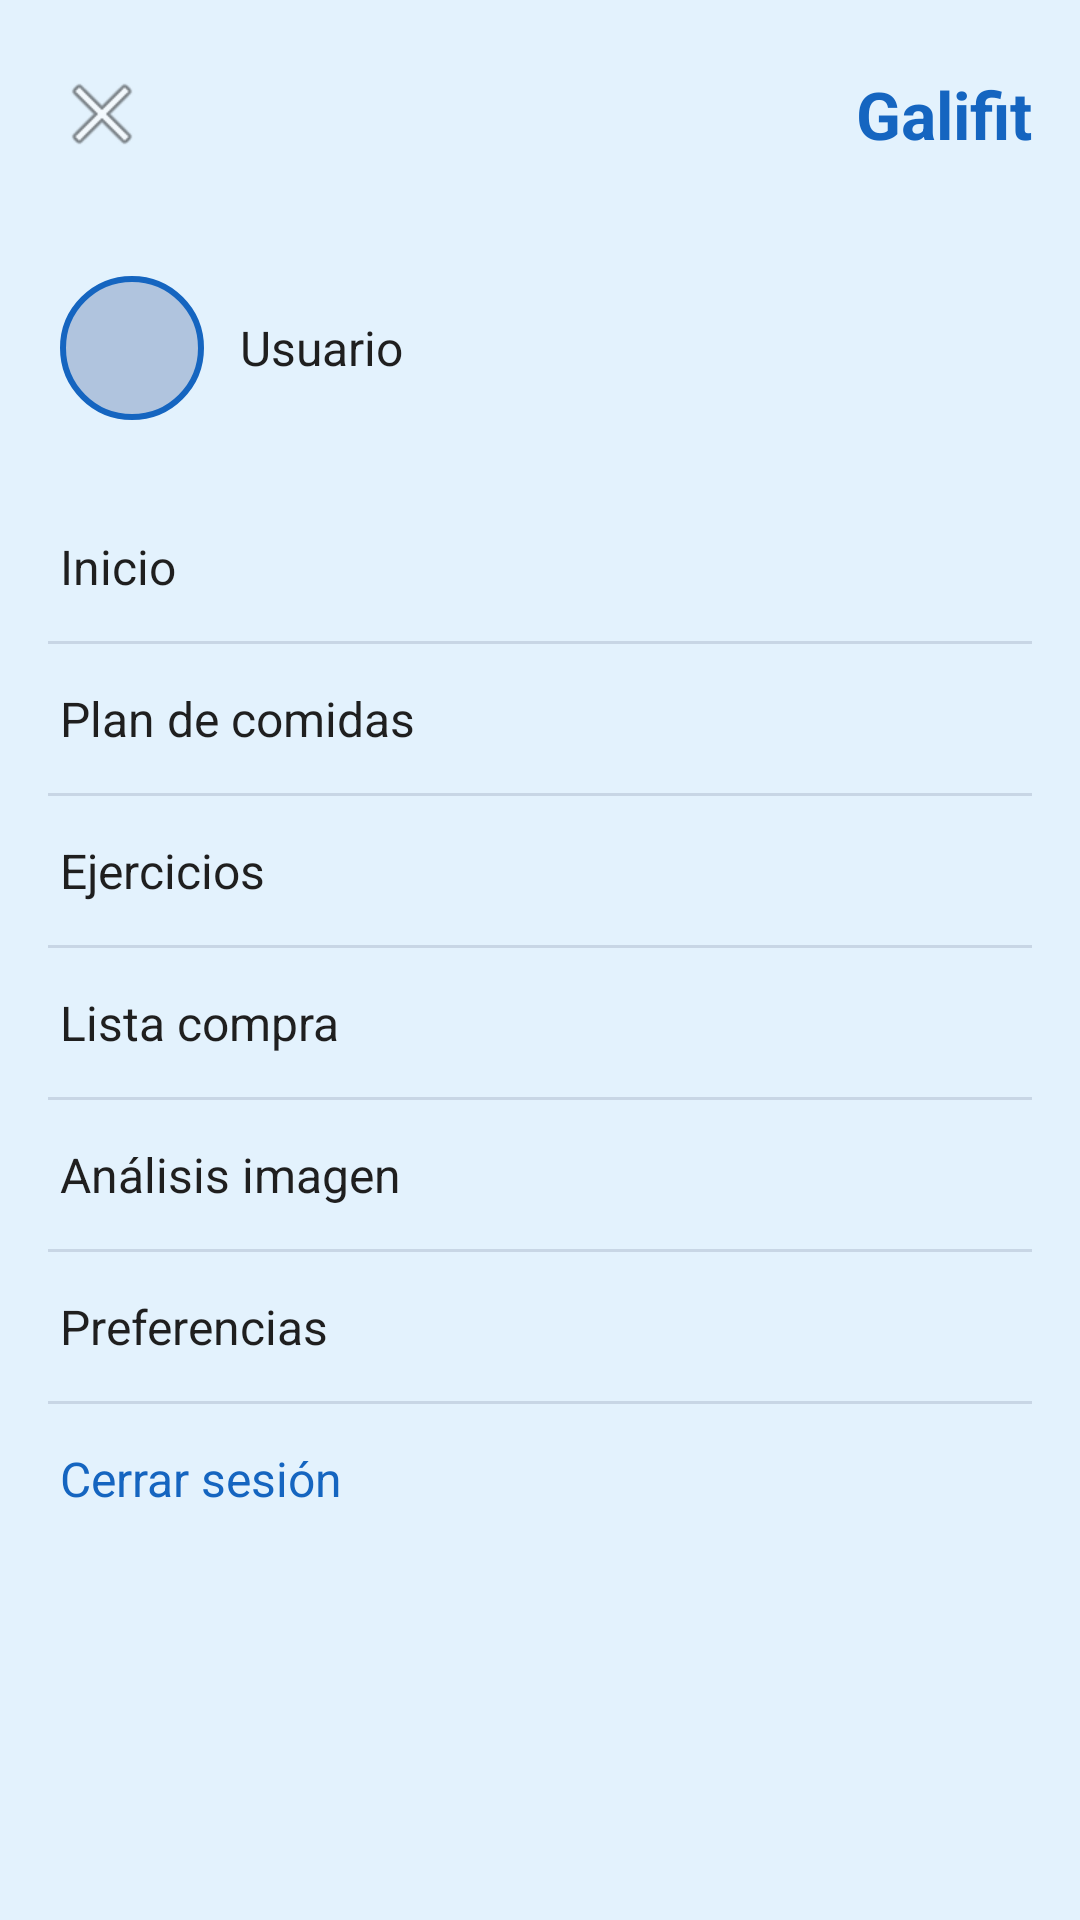

Icon click points for this 1080 × 1920 phone screenshot, format (x=x, y=y):
Cerrar menú: (x=102, y=114)
